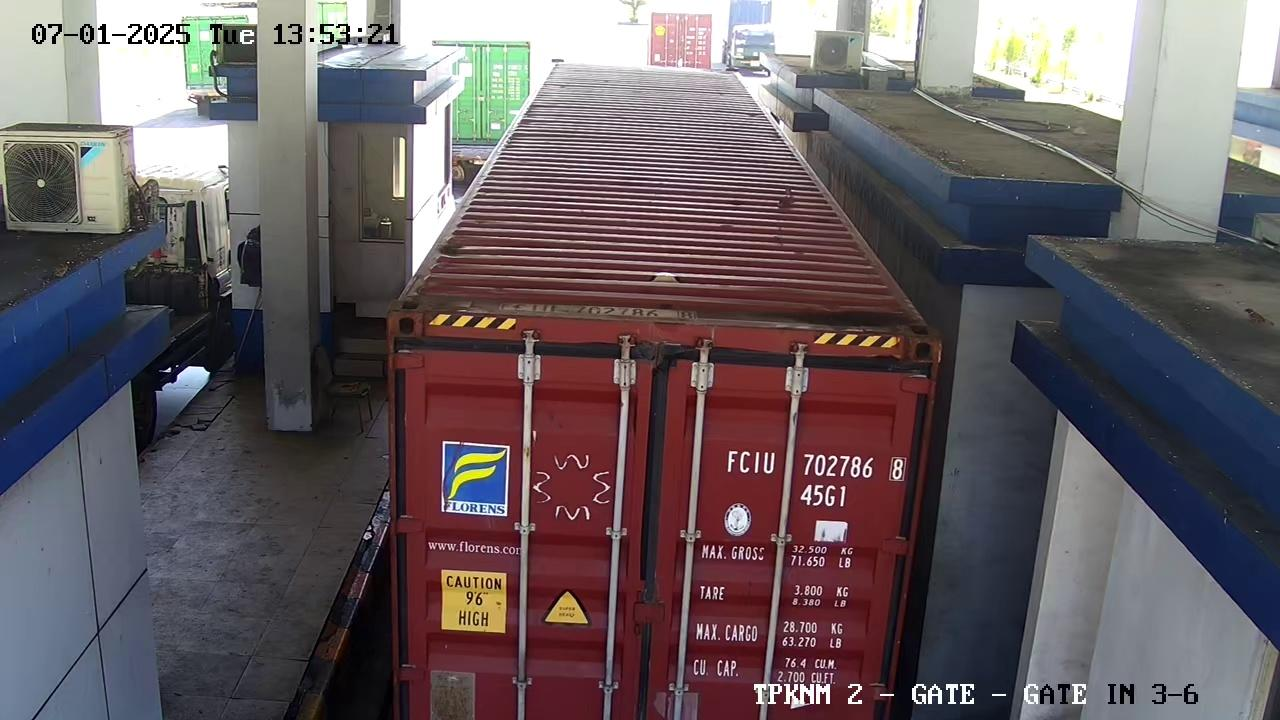Container_ID: (705, 436, 908, 515), (488, 289, 695, 336)
